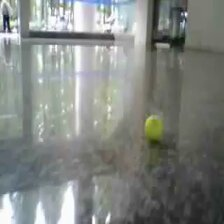tennis: (144, 115, 161, 138)
